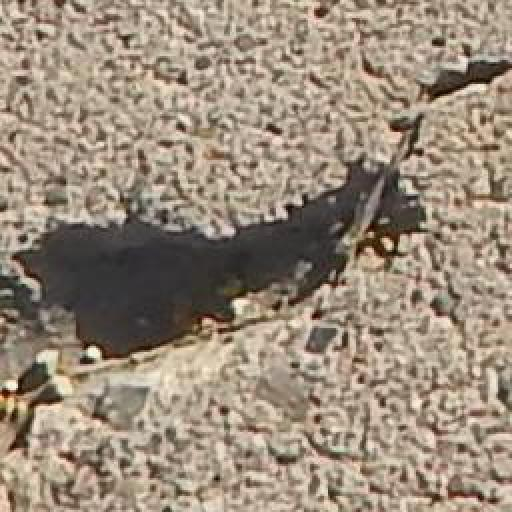spalling: (14, 42, 507, 474)
